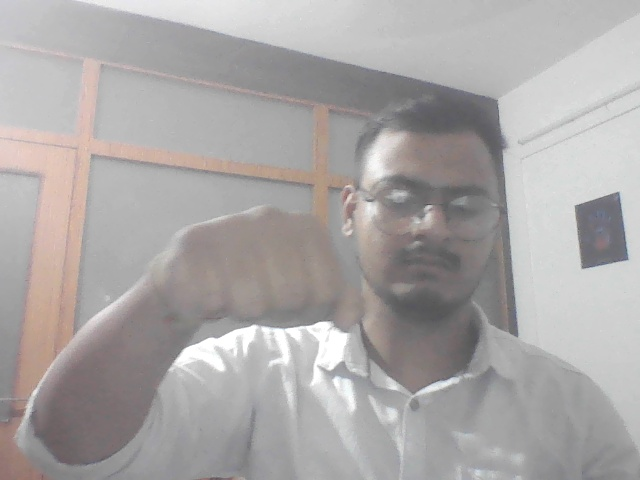YES: (156, 199, 378, 343)
